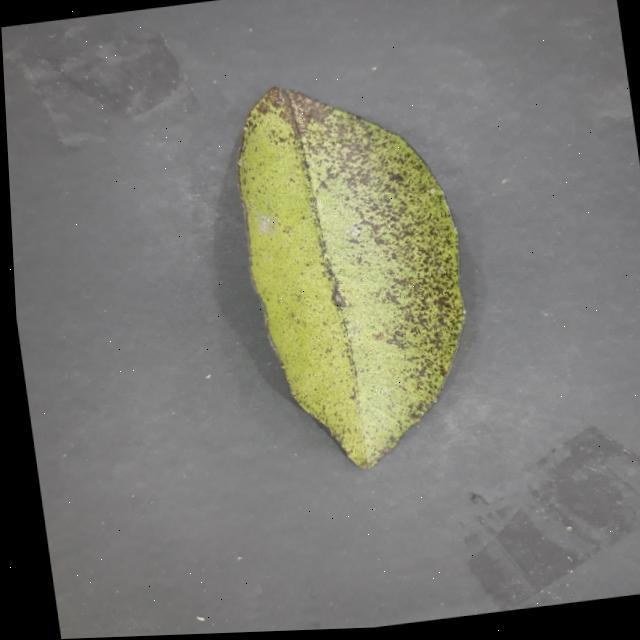greasy_spot: (237, 87, 464, 468)
